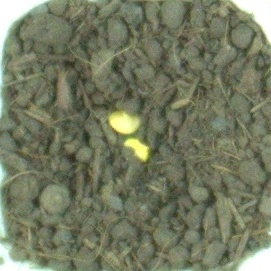chilli seed: (105, 107, 145, 137), (122, 135, 151, 164)
